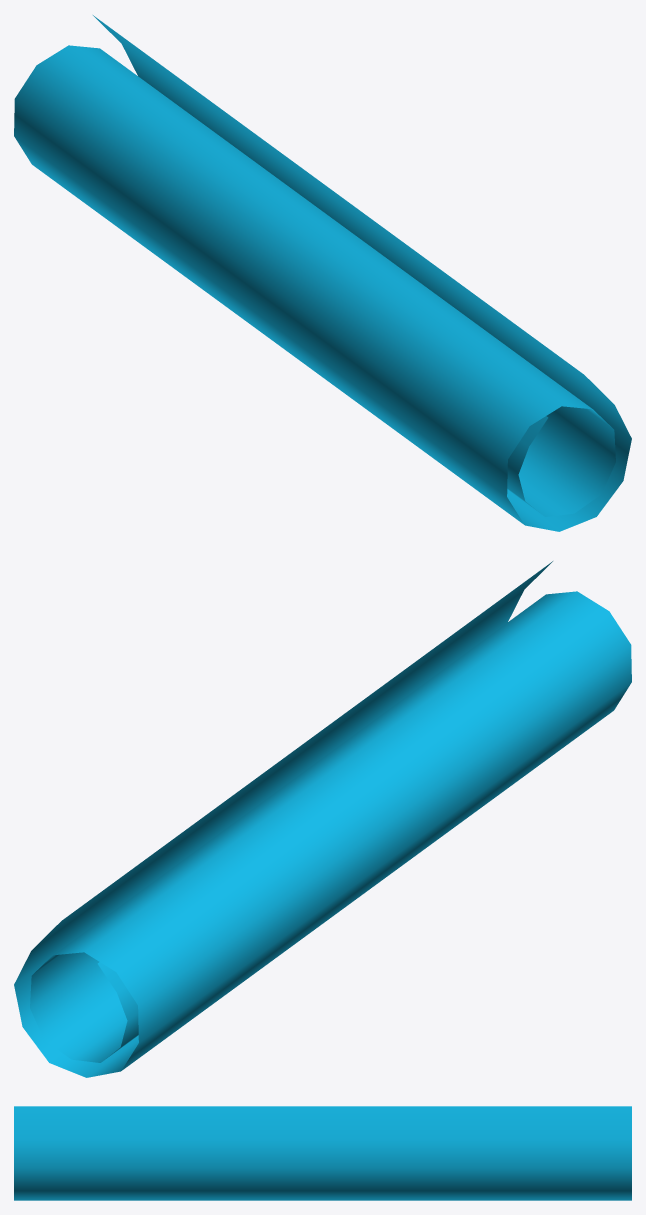
The model's file is Scroll_Of_Oceans_Final.fbx.
3 renders of one model, top to bottom at view 1: azimuth 30°, elevation 25°; view 2: azimuth 150°, elevation 25°; view 3: azimuth 270°, elevation 25°, orthographic. The views are drawn at different scales.
Visible parts, largest first — view 1: pPlane1; view 2: pPlane1; view 3: pPlane1.
Boxes of the visible parts, box(x1,y1,x2,y2) form: pPlane1: box(14, 15, 631, 531); pPlane1: box(14, 561, 631, 1077); pPlane1: box(14, 1106, 631, 1200).
Size of the model in its own units: 0.9501 by 1.1 by 6.5.
